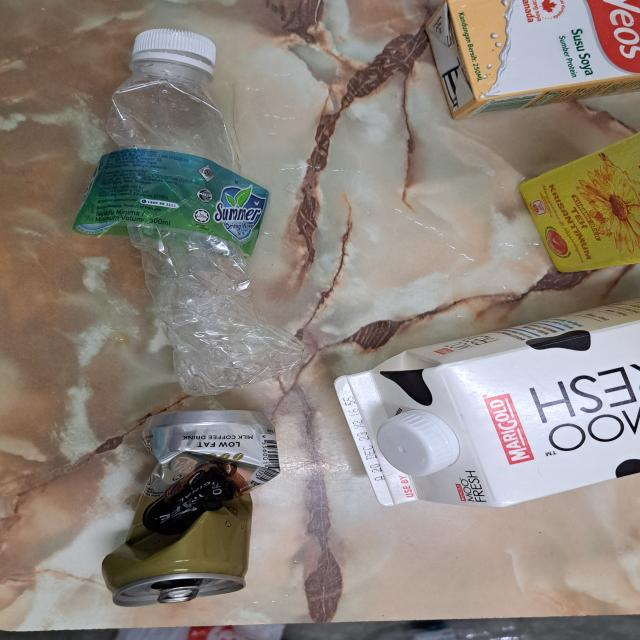can: (102, 409, 279, 607)
drink carton: (335, 297, 640, 507), (426, 0, 639, 120), (516, 133, 640, 274)
plastic bottle: (74, 65, 311, 397)
plastic bottle cap: (378, 412, 456, 478), (130, 29, 219, 71)
pop tab: (155, 586, 200, 604)
